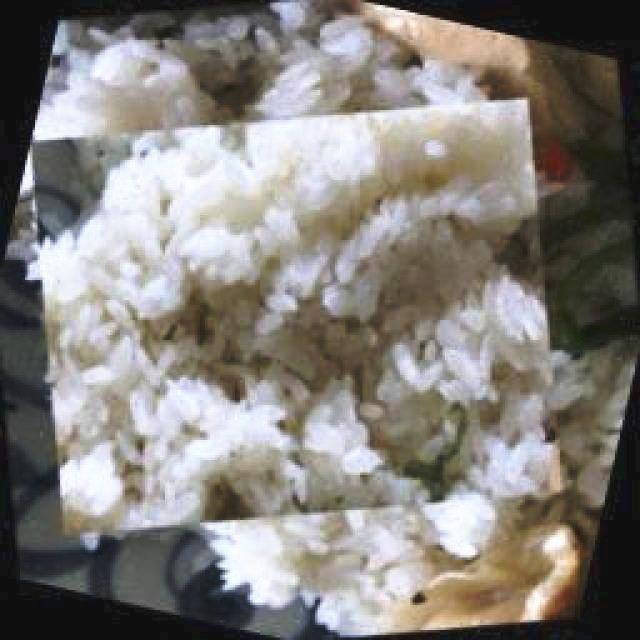rice: (48, 118, 572, 554), (166, 233, 485, 552), (74, 255, 382, 514), (93, 122, 434, 342), (253, 193, 521, 447), (35, 6, 486, 148), (227, 314, 513, 515), (368, 270, 566, 510), (68, 363, 296, 534), (75, 142, 286, 326), (478, 326, 639, 548), (165, 121, 383, 271), (311, 194, 510, 357), (44, 178, 208, 352), (245, 12, 479, 121), (342, 104, 532, 234), (36, 33, 220, 139), (203, 500, 431, 581), (282, 381, 412, 510), (545, 336, 636, 520), (104, 143, 242, 263), (158, 152, 279, 265), (167, 384, 297, 484), (313, 197, 423, 313), (250, 116, 382, 212), (154, 20, 282, 116), (78, 216, 188, 322), (361, 370, 466, 481), (38, 227, 140, 341), (187, 228, 302, 326), (295, 529, 424, 613), (205, 516, 311, 608), (60, 68, 198, 136), (281, 452, 411, 516), (376, 284, 475, 365), (542, 340, 624, 434), (63, 329, 149, 416), (245, 308, 346, 379), (334, 507, 432, 580), (431, 164, 533, 233), (472, 427, 556, 501), (299, 388, 376, 468), (153, 376, 236, 446), (312, 579, 412, 637), (91, 36, 189, 95), (124, 464, 208, 532), (58, 440, 125, 524), (422, 488, 497, 557), (176, 222, 257, 282), (258, 58, 338, 118), (561, 211, 632, 274), (224, 457, 299, 514), (406, 60, 489, 111), (42, 88, 128, 136), (267, 250, 331, 313), (530, 486, 588, 550), (583, 240, 636, 308), (540, 361, 598, 418), (572, 446, 618, 512), (162, 86, 218, 130), (364, 64, 418, 108), (376, 468, 430, 509), (584, 216, 632, 257), (279, 456, 314, 503)
